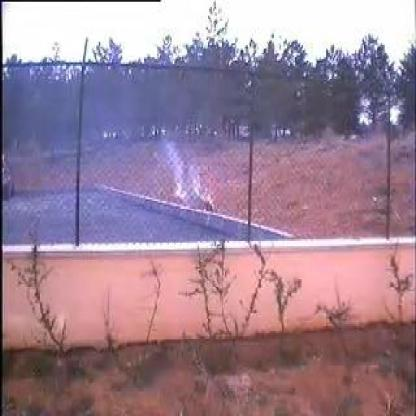-: (82, 117, 203, 250)
